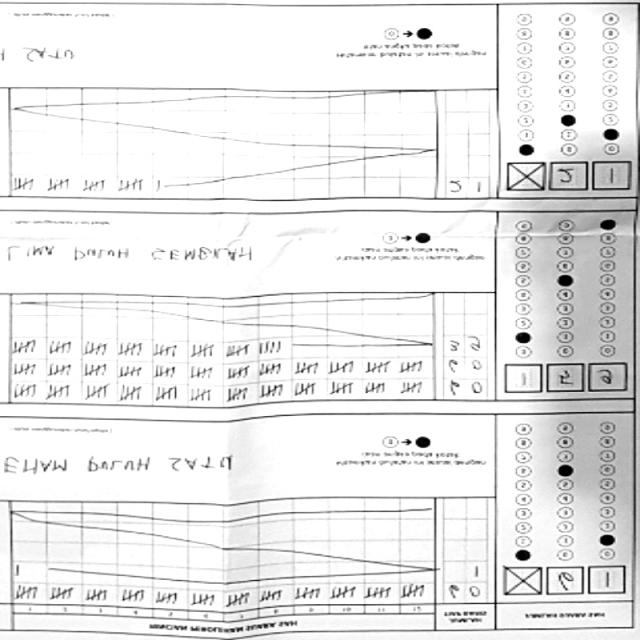Suara: (496, 561, 632, 600), (498, 157, 634, 196), (497, 359, 633, 398)
